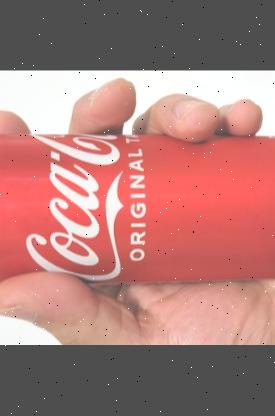Can: (0, 130, 275, 286)
